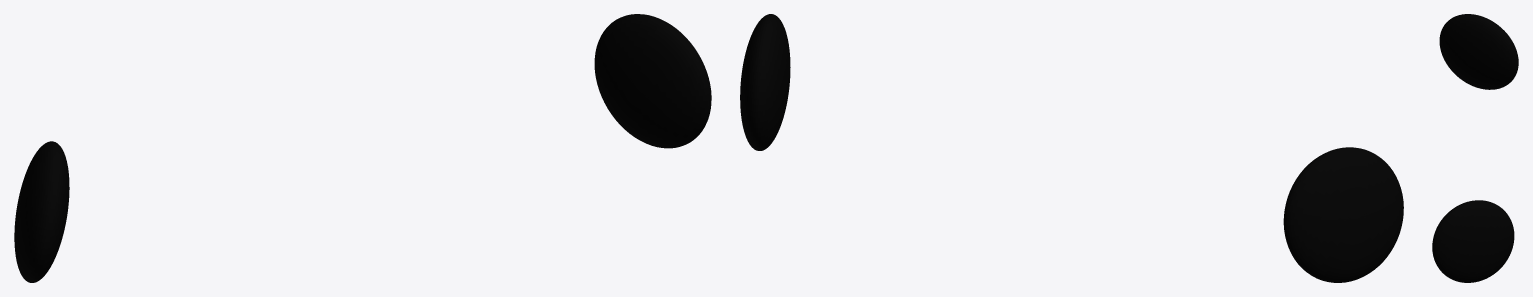
The model's file is petfish_v32.fbx.
The picture shows the model from 3 angles, left to right: view 1: azimuth 30°, elevation 25°; view 2: azimuth 150°, elevation 25°; view 3: azimuth 270°, elevation 25°; orthographic projection. The views are drawn at different scales.
Parts seen in each view (by area): view 1: pupil_R, pupil_L; view 2: pupil_L, pupil_R; view 3: pupil_R, pupil_L.
Boxes of the visible parts, x1,y1,x2,y2 form: pupil_R: (594, 14, 711, 148); pupil_L: (14, 141, 69, 282); pupil_L: (1283, 147, 1403, 282); pupil_R: (740, 14, 790, 150); pupil_R: (1432, 200, 1514, 282); pupil_L: (1439, 14, 1518, 89).
Size of the model in its own units: 157 by 31.83 by 28.58.
Materials: 1 (1 with a texture image).
